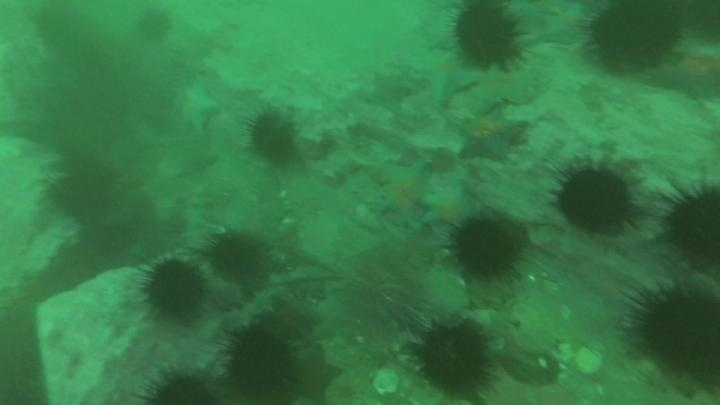echinus: (629, 282, 720, 387), (341, 254, 431, 335), (410, 317, 497, 400), (584, 3, 685, 73), (553, 164, 637, 236), (222, 327, 298, 398), (448, 3, 526, 72), (660, 178, 719, 267), (450, 216, 524, 281), (48, 160, 119, 224), (140, 257, 209, 322), (244, 108, 301, 167), (206, 229, 269, 282), (135, 366, 220, 405), (33, 2, 91, 53), (81, 216, 138, 265), (263, 299, 317, 343), (134, 7, 174, 44)
holothurian: (219, 285, 288, 335), (177, 182, 218, 254)
starfish: (648, 30, 720, 103), (454, 104, 528, 164), (375, 160, 435, 229), (410, 49, 481, 106), (512, 2, 592, 50), (285, 346, 343, 404), (421, 183, 479, 231), (173, 80, 221, 135), (309, 289, 357, 342)
